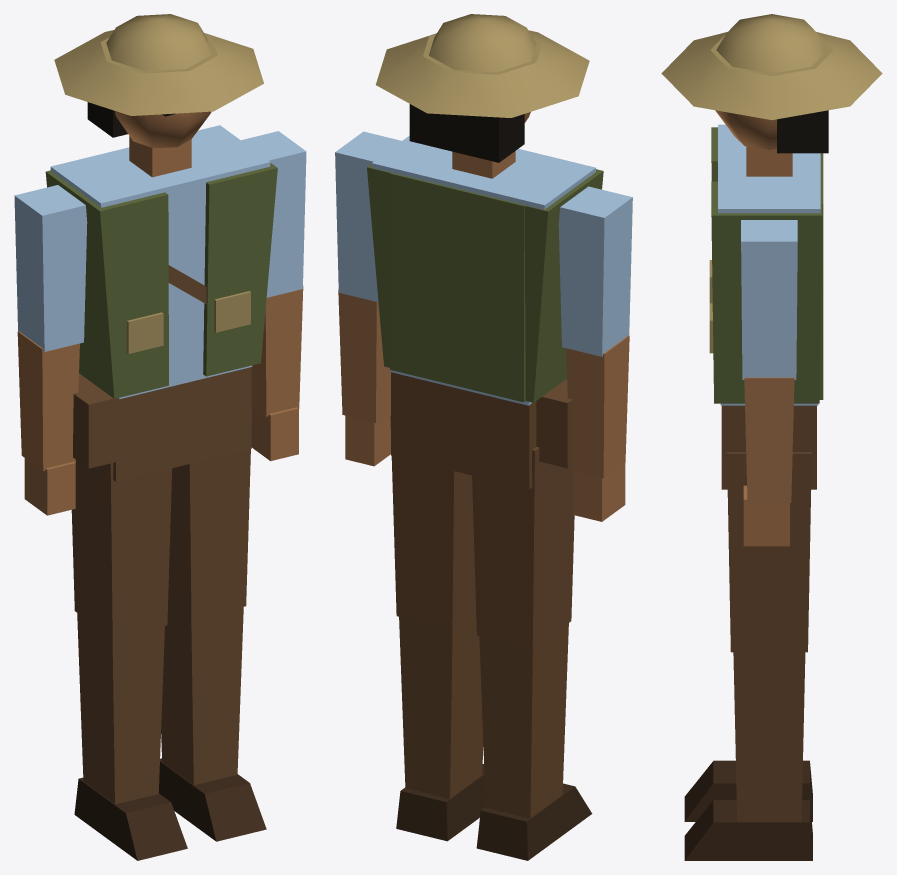
The model's file is cecep.glb.
3 views of the same model, side by side, from view 1: azimuth 30°, elevation 25°; view 2: azimuth 150°, elevation 25°; view 3: azimuth 270°, elevation 25° (orthographic). The views are drawn at different scales.
Parts seen in each view (by area): view 1: torso, leg_r, leg_l, arm_r, head, arm_l; view 2: torso, leg_r, leg_l, arm_r, head, arm_l; view 3: leg_l, torso, head, arm_l, leg_r.
Boxes of the visible parts, bbox=[...] form: torso: bbox=[45, 125, 277, 481]; leg_r: bbox=[71, 460, 187, 860]; leg_l: bbox=[159, 409, 266, 841]; arm_r: bbox=[14, 185, 87, 515]; head: bbox=[54, 14, 263, 148]; arm_l: bbox=[241, 131, 306, 461]; torso: bbox=[367, 135, 603, 489]; leg_r: bbox=[472, 447, 592, 860]; leg_l: bbox=[390, 415, 485, 841]; arm_r: bbox=[558, 186, 632, 521]; head: bbox=[375, 14, 589, 162]; arm_l: bbox=[335, 131, 401, 466]; leg_l: bbox=[684, 452, 812, 860]; torso: bbox=[709, 124, 823, 489]; head: bbox=[661, 14, 882, 153]; arm_l: bbox=[741, 220, 797, 546]; leg_r: bbox=[684, 760, 812, 821].
Bounding box in the file's own units: 0.6035 × 1.73 × 0.43.
